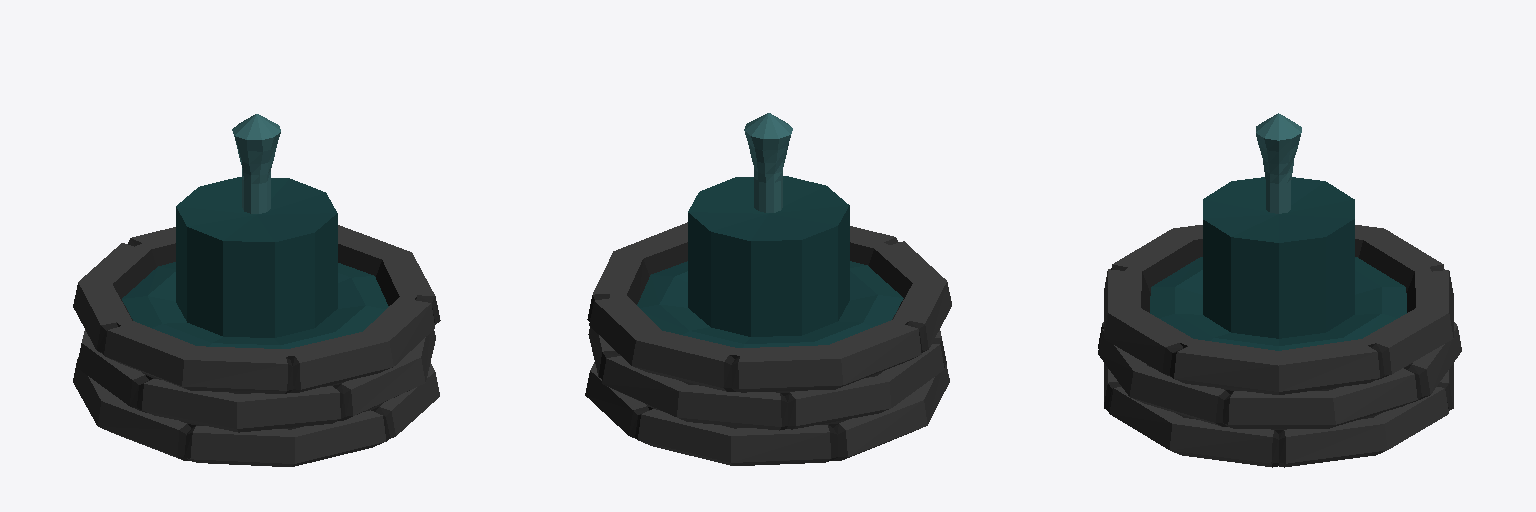
The model's file is fountain2.obj.
3 views of the same model, side by side, from view 1: azimuth 30°, elevation 25°; view 2: azimuth 150°, elevation 25°; view 3: azimuth 270°, elevation 25° (orthographic).
Size of the model in its own units: 256 by 220 by 254.